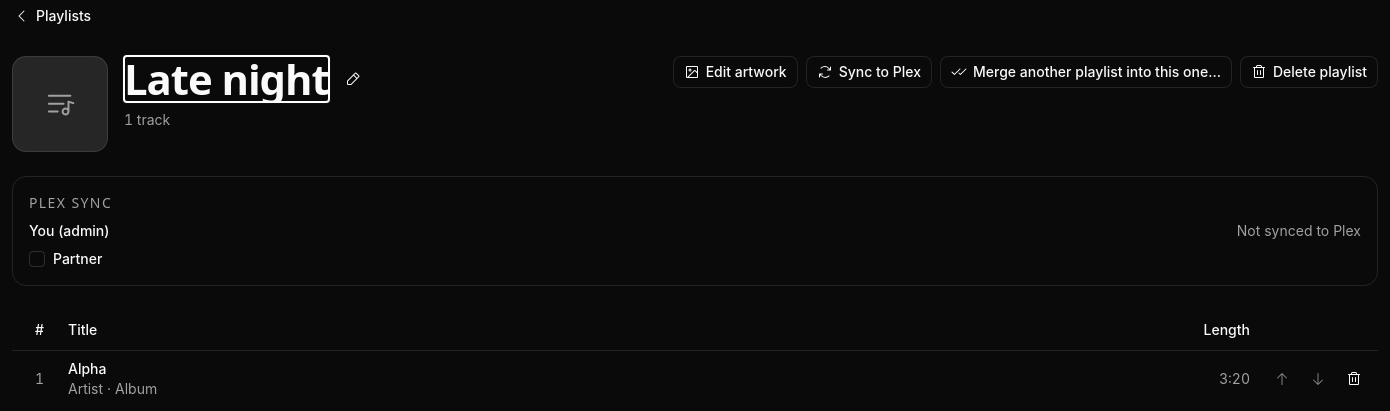
Test: PlaylistDetailPage › toggling a target is optimistic and keeps the checkbox enabled
Click the checkbox named "partner" at (37, 259), box [29, 251, 45, 267]
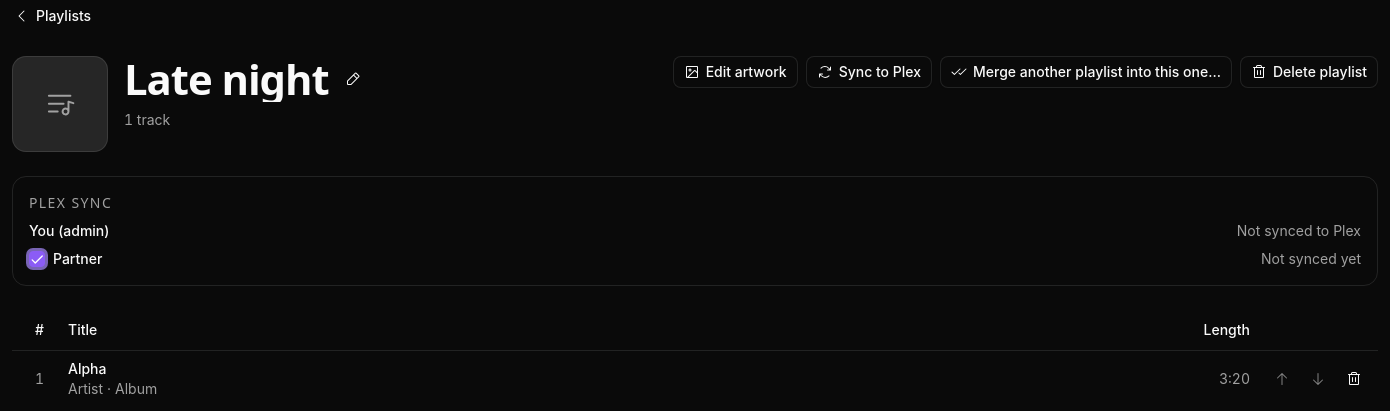
Expected: the checkbox named "partner" is checked, [29, 251, 45, 267]
Expected: the text "Not synced yet" is shown, [1261, 249, 1361, 269]
